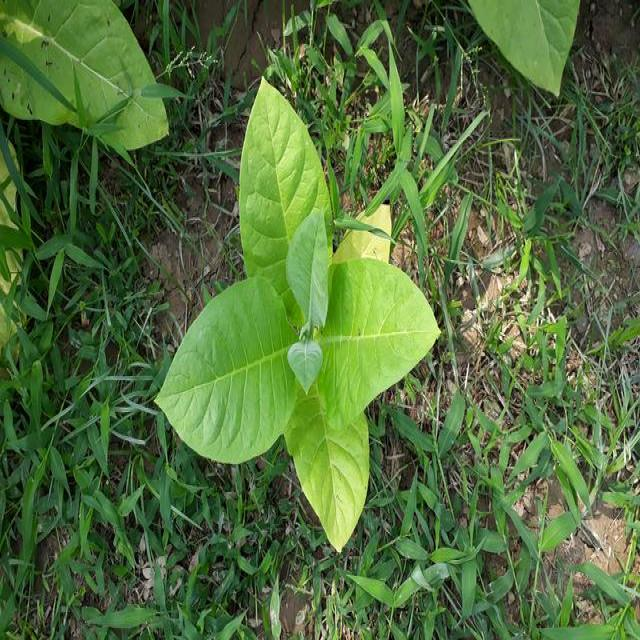crop: (161, 66, 444, 585)
